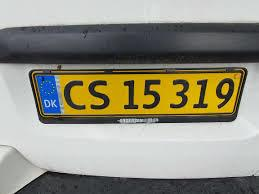license-plates: (30, 68, 248, 124)
